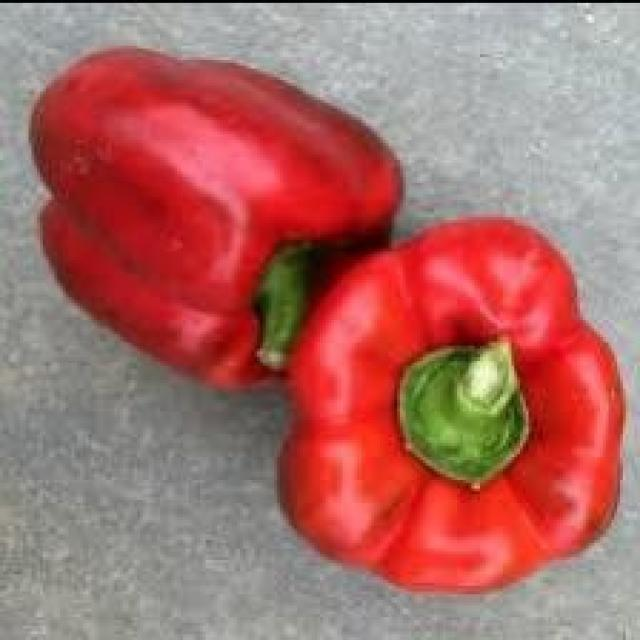Pepper: (274, 217, 626, 597), (29, 46, 377, 391)
